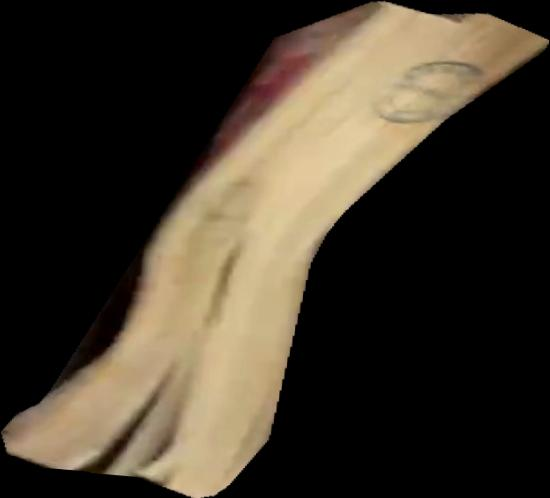backward: (1, 1, 550, 498)
